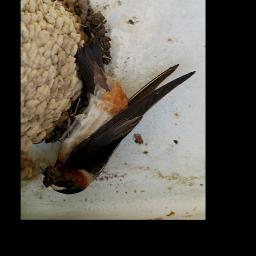Swallow: (42, 62, 197, 195)
